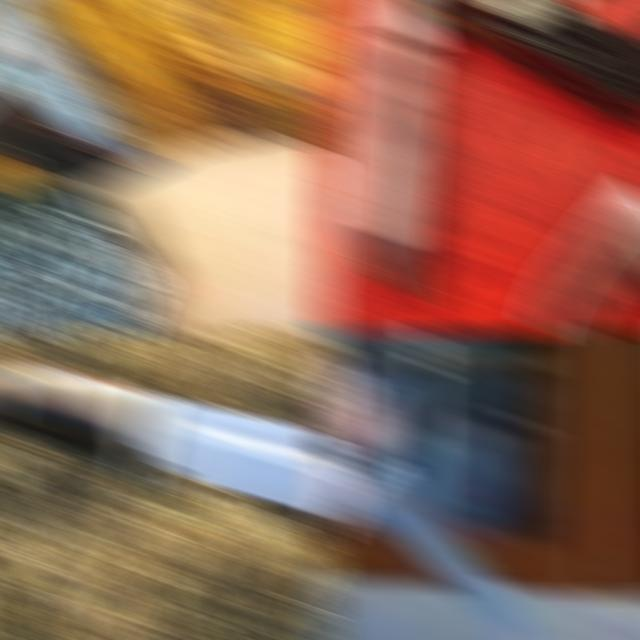Knife_Handle: (316, 328, 561, 640)
